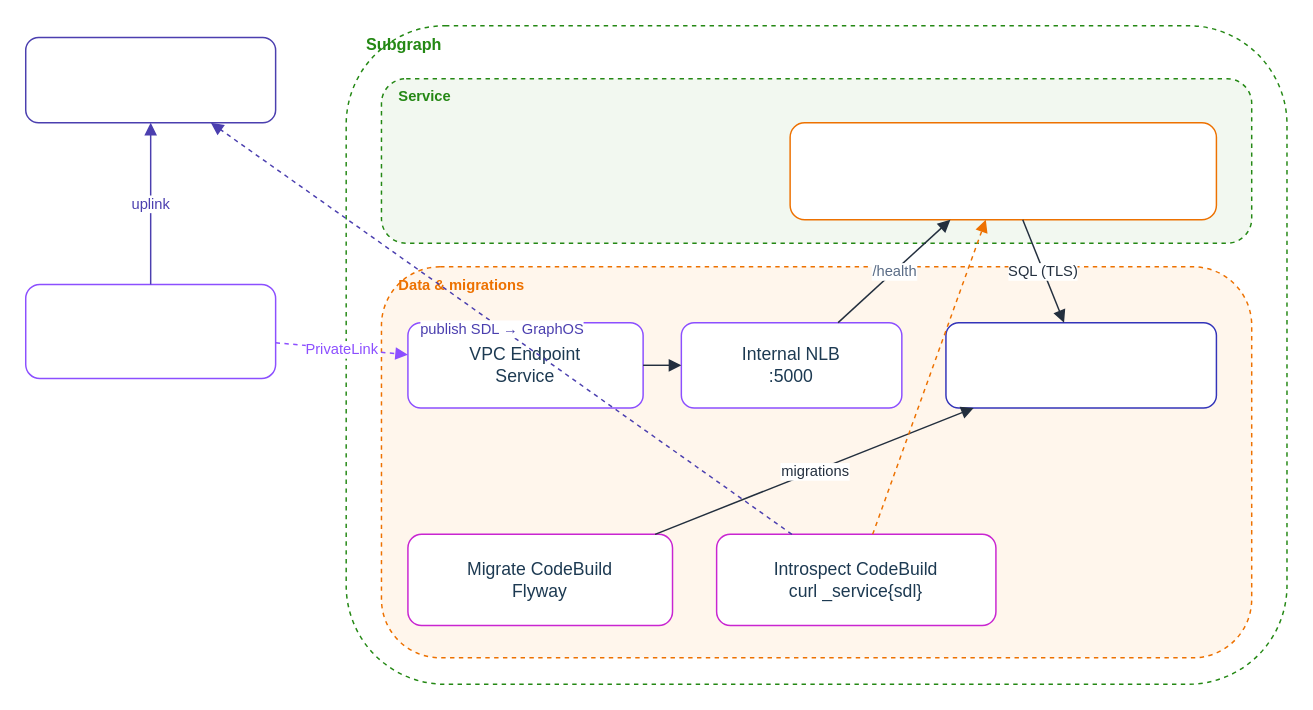
Some shapes in this 1313 by 710 pixel diagram are drawn without their labels. Each missing label, with the centre of its shape:
"Apollo GraphOS managed federation" goes at (150,79).
"Apollo Router gateway account" goes at (150,331).
"PostGraphile + federation plugin Fastify + ECS Fargate · :5000 · /health" goes at (1002,170).
"RDS Postgres private · encrypted" goes at (1080,364).
